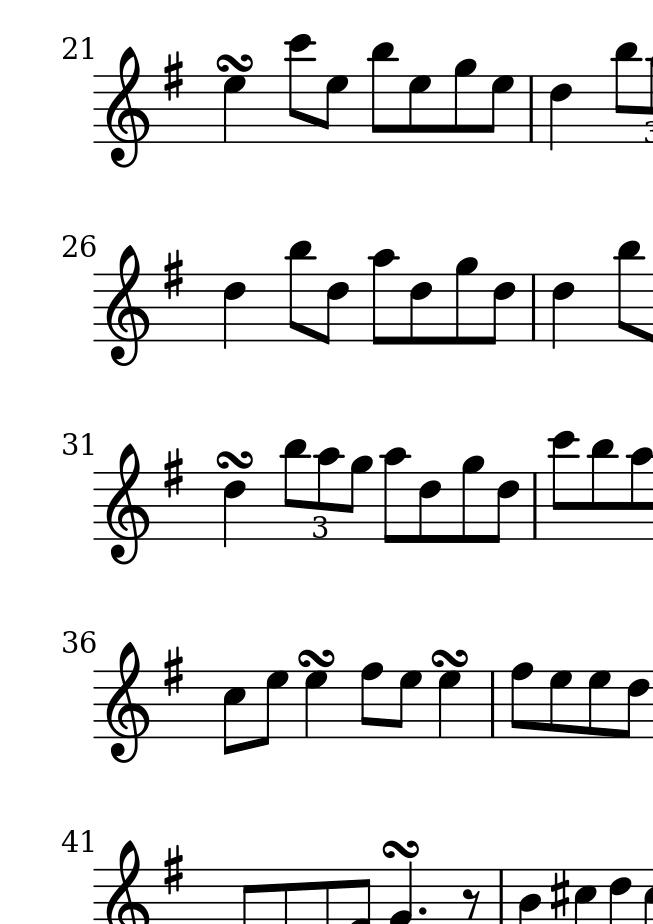1: (81, 35, 94, 62), (81, 431, 94, 457), (81, 829, 94, 855)
2: (60, 35, 79, 65), (60, 234, 78, 262)
3: (59, 629, 77, 655), (61, 431, 78, 457), (312, 515, 328, 541)
4: (61, 827, 78, 855)
4_6: (222, 471, 248, 551), (551, 271, 576, 354), (549, 74, 573, 152), (222, 273, 246, 348)
4_7: (302, 669, 328, 741), (436, 670, 462, 740), (222, 74, 247, 145)
6: (78, 233, 96, 261), (77, 631, 98, 655)
8_10: (371, 248, 401, 346), (314, 447, 344, 541), (382, 447, 409, 547), (628, 446, 653, 541)
8_11: (615, 240, 645, 343), (369, 42, 399, 144), (613, 42, 642, 144), (286, 240, 315, 341), (282, 439, 310, 541), (589, 438, 615, 541)
8_12: (551, 429, 580, 540), (286, 34, 314, 143)
8_5: (221, 669, 247, 755)
8_6: (317, 272, 351, 345), (486, 271, 517, 346), (491, 470, 521, 545), (620, 668, 650, 741), (406, 272, 435, 345), (417, 471, 442, 545)
8_7: (257, 669, 290, 747), (483, 74, 517, 144), (317, 74, 348, 143), (394, 669, 422, 740), (548, 669, 573, 739), (587, 669, 611, 739), (408, 75, 432, 143)
8_8: (508, 661, 534, 739), (359, 661, 384, 740)
8_9: (453, 256, 480, 345), (346, 456, 373, 541), (451, 57, 477, 144), (460, 454, 485, 543)
Gclef: (106, 442, 151, 563), (105, 245, 150, 365), (107, 47, 149, 175), (106, 641, 150, 762)
Rests8: (462, 883, 481, 919)
Sharp: (163, 842, 185, 896), (162, 250, 184, 300), (549, 868, 570, 919), (163, 647, 184, 696), (163, 448, 183, 496), (164, 51, 182, 99)
Single_barline: (523, 75, 540, 144), (485, 670, 502, 737), (526, 473, 543, 538), (526, 273, 542, 341), (492, 869, 510, 923)
Turn: (215, 447, 257, 472), (381, 838, 420, 862), (215, 52, 255, 74), (296, 646, 334, 669), (430, 648, 469, 669)
dot: (415, 903, 431, 917)
